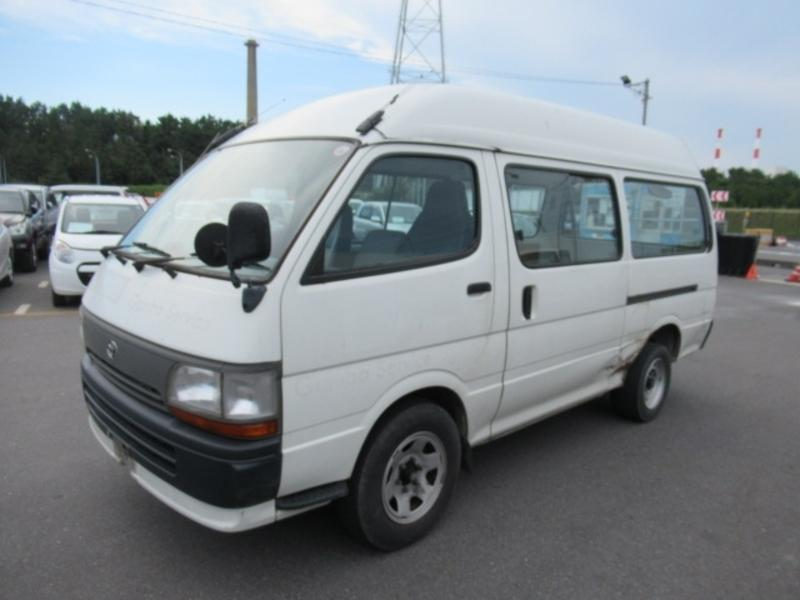Van: (81, 83, 725, 547)
